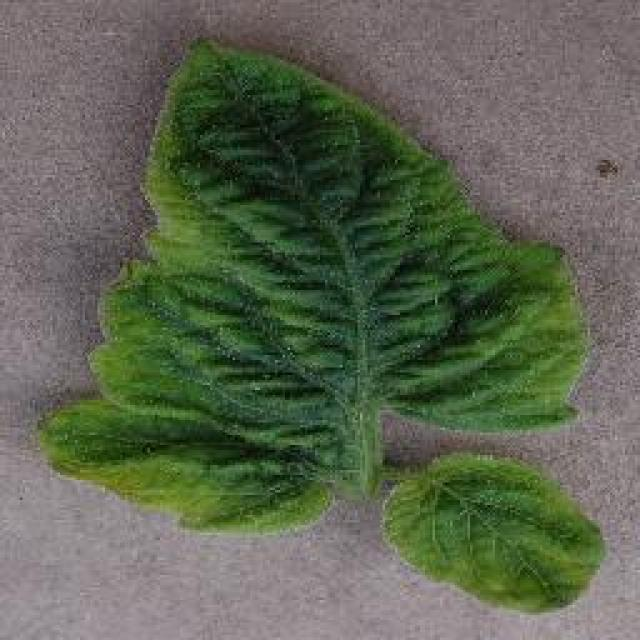Tomato yellow virus leaf: (37, 37, 594, 540), (378, 446, 608, 612)
